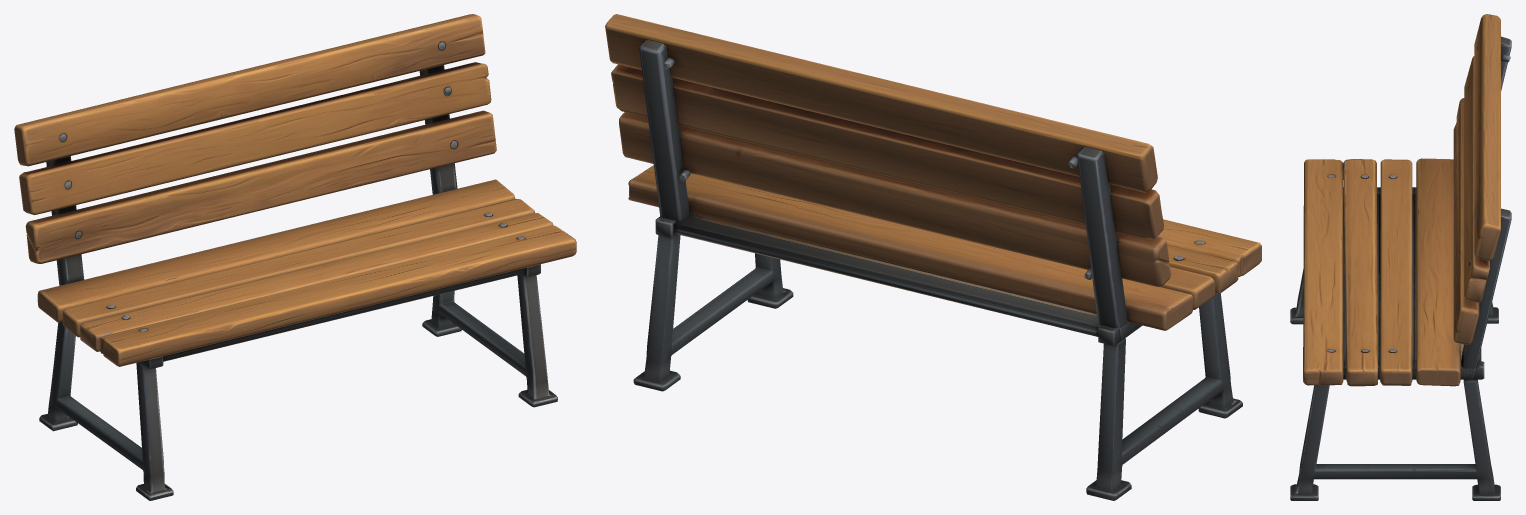
The model's file is selected.glb.
3 views of the same model, side by side, from view 1: azimuth 30°, elevation 25°; view 2: azimuth 150°, elevation 25°; view 3: azimuth 270°, elevation 25° (orthographic). The views are drawn at different scales.
Parts seen in each view (by area): view 1: tripo_node_530fe06d-bb63-4e4c-a2cf-a858a5a32ff6; view 2: tripo_node_530fe06d-bb63-4e4c-a2cf-a858a5a32ff6; view 3: tripo_node_530fe06d-bb63-4e4c-a2cf-a858a5a32ff6.
Boxes of the visible parts, x1,y1,x2,y2 form: tripo_node_530fe06d-bb63-4e4c-a2cf-a858a5a32ff6: (14,14,576,500); tripo_node_530fe06d-bb63-4e4c-a2cf-a858a5a32ff6: (605,14,1261,500); tripo_node_530fe06d-bb63-4e4c-a2cf-a858a5a32ff6: (1290,14,1511,500).
Bounding box in the file's own units: 0.998 × 0.6309 × 0.4395.
1 material, 1 textured.
